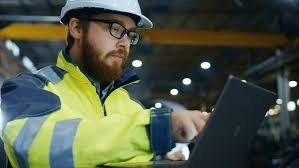helmet: (58, 1, 156, 26)
person with partial safety: (3, 1, 150, 167)
